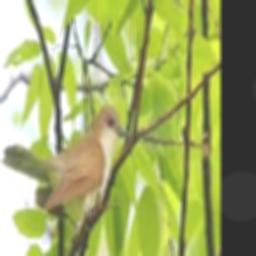Cuckoo: (2, 105, 130, 217)
